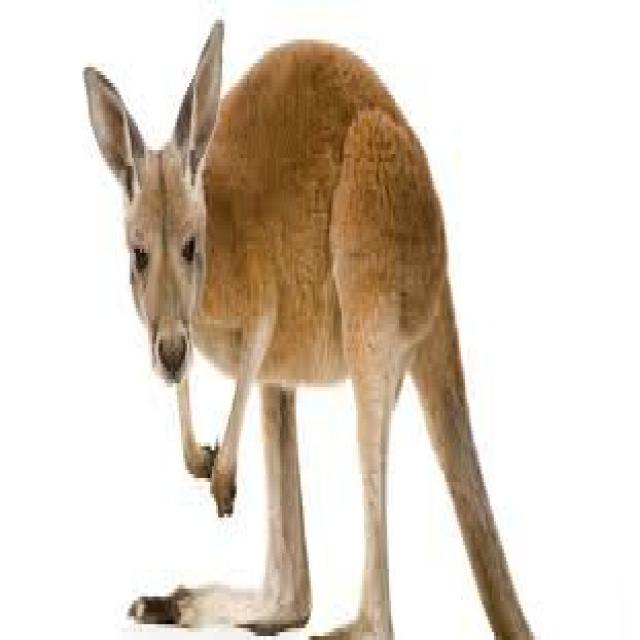Kangaroo: (77, 18, 545, 640)
